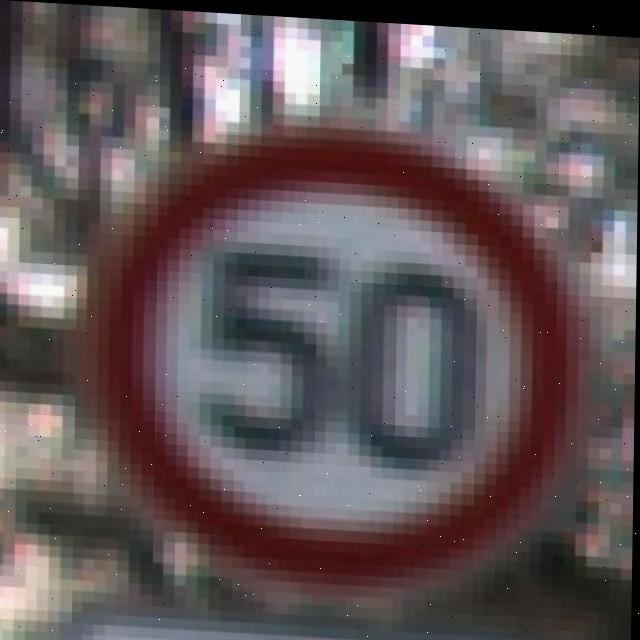Speed limit 50: (98, 115, 587, 596)
